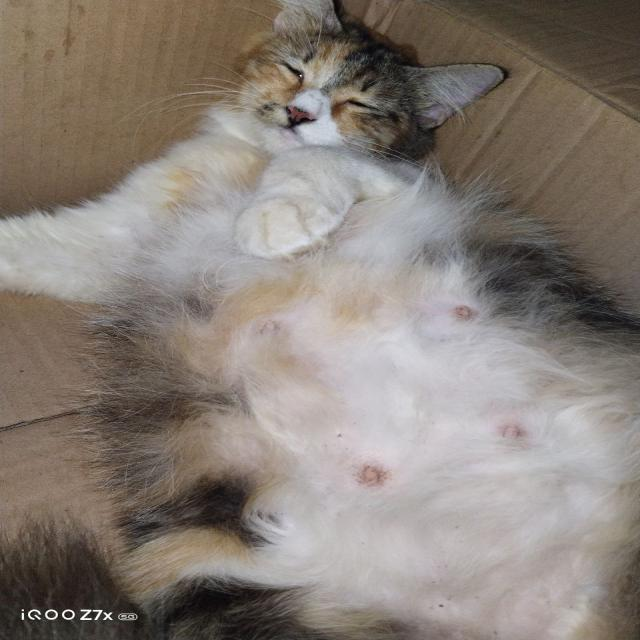da khoe manh: (124, 271, 402, 442)
